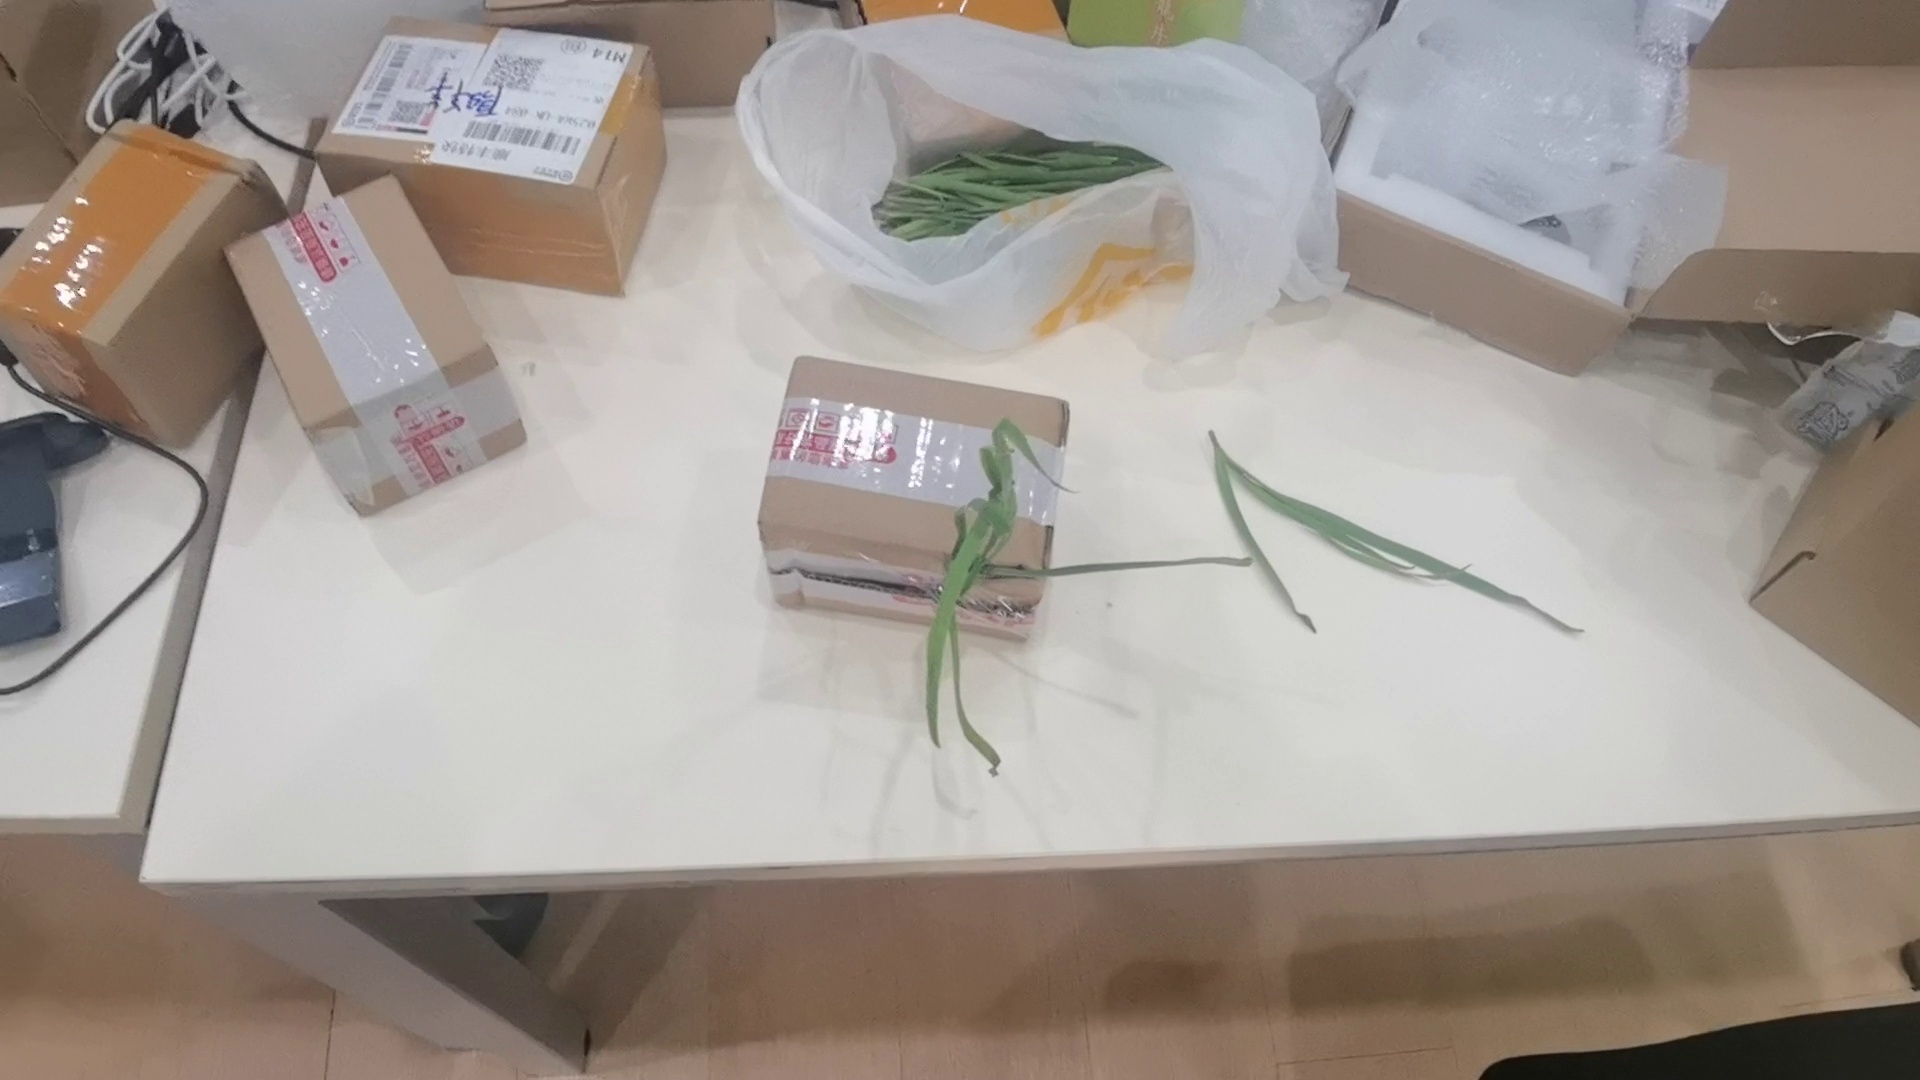chives: (856, 423, 1291, 769), (1193, 427, 1590, 651)
